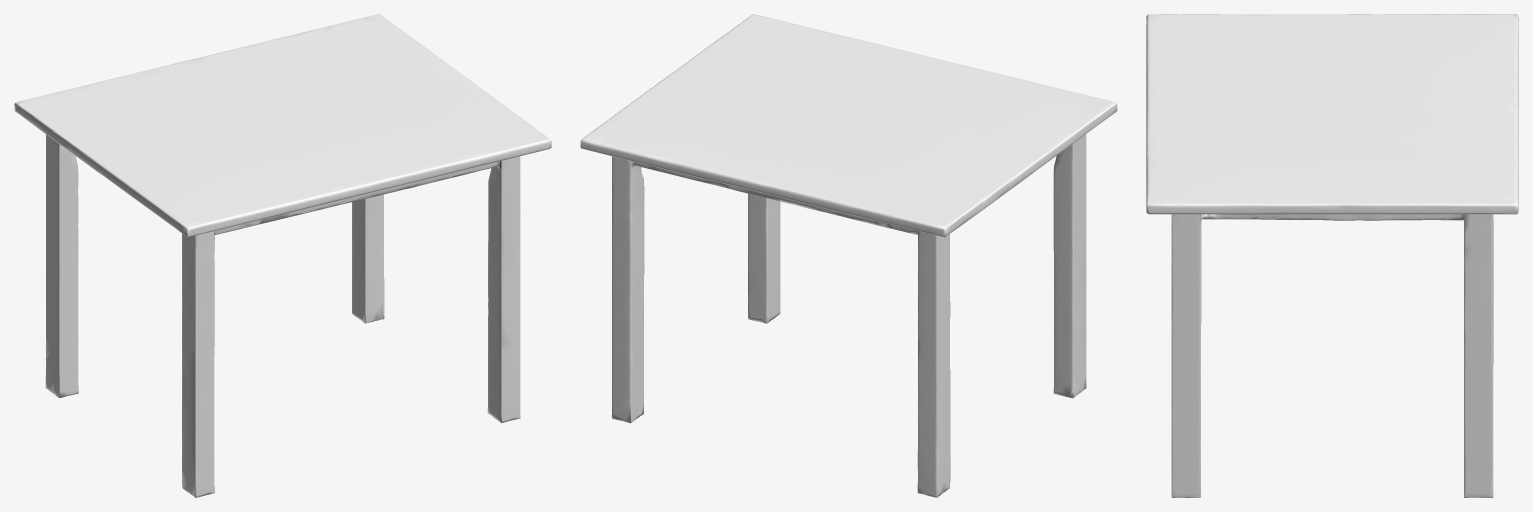
The picture shows the model from 3 angles, left to right: view 1: azimuth 30°, elevation 25°; view 2: azimuth 150°, elevation 25°; view 3: azimuth 270°, elevation 25°; orthographic projection. The views are drawn at different scales.
Parts seen in each view (by area): view 1: node_id4; view 2: node_id4; view 3: node_id4.
Part boxes in pixels (bbox=[...]): node_id4: bbox=[14, 14, 551, 497]; node_id4: bbox=[580, 14, 1117, 497]; node_id4: bbox=[1146, 14, 1518, 497].
Bounding box in the file's own units: 0.512 × 0.3795 × 0.4211.
1 material, 1 textured.
